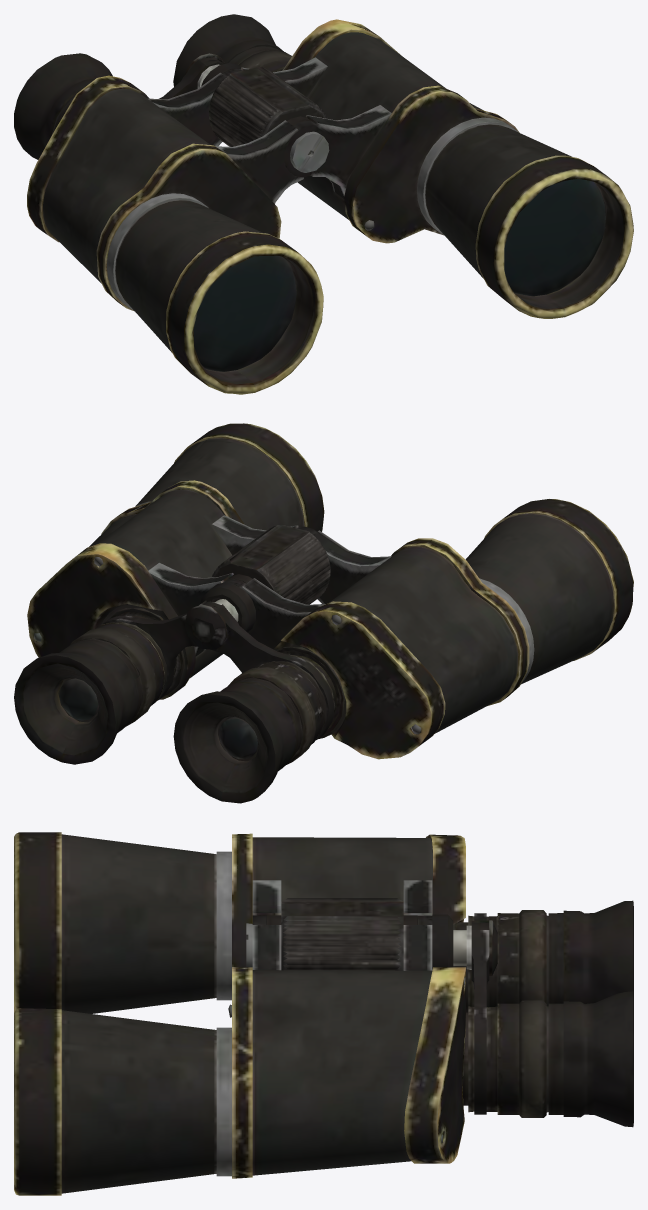
The model's file is vintage_binocular.glb.
3 views of the same model, one above another, from view 1: azimuth 30°, elevation 25°; view 2: azimuth 150°, elevation 25°; view 3: azimuth 270°, elevation 25° (orthographic). The views are drawn at different scales.
Parts seen in each view (by area): view 1: vintage_binocular_left_lens; view 2: vintage_binocular_left_lens; view 3: vintage_binocular_left_lens.
Boxes of the visible parts, x1,y1,x2,y2 form: vintage_binocular_left_lens: (14,14,633,394); vintage_binocular_left_lens: (14,423,633,803); vintage_binocular_left_lens: (14,832,633,1195).
Bounding box in the file's own units: 0.1939 × 0.0684 × 0.1992.
Materials: 1 (1 with a texture image).
